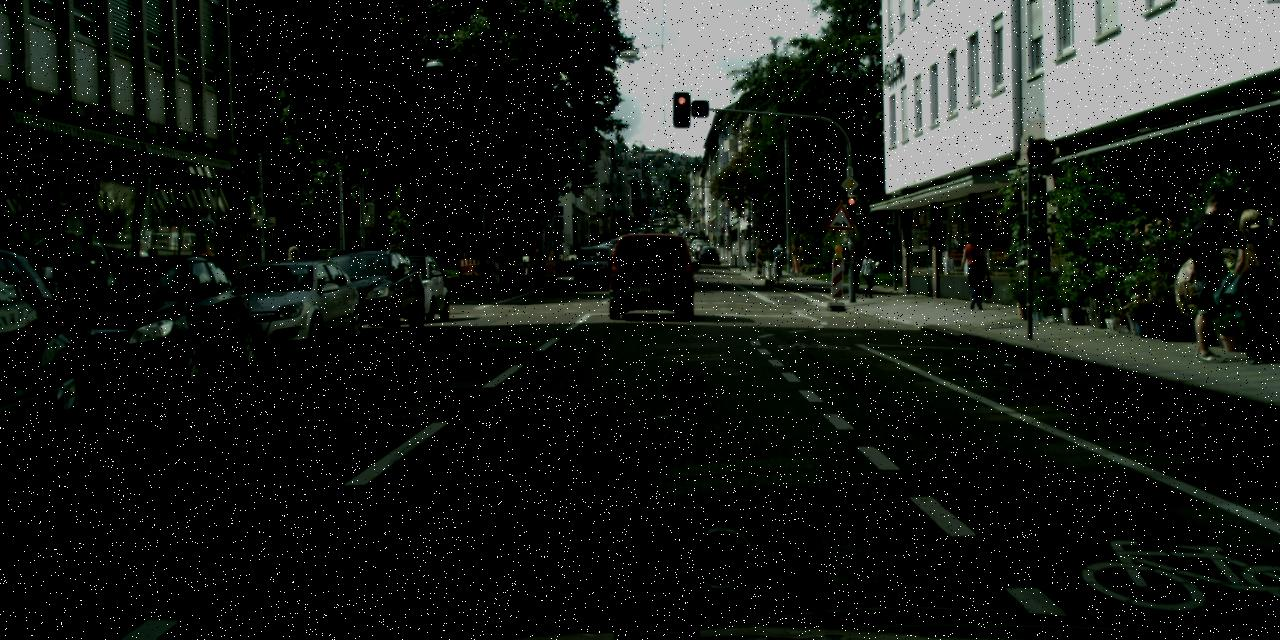ped: (1178, 192, 1248, 362), (1224, 208, 1278, 362), (959, 230, 990, 310), (280, 245, 306, 311), (858, 250, 878, 296), (846, 247, 864, 291), (771, 242, 786, 278)
